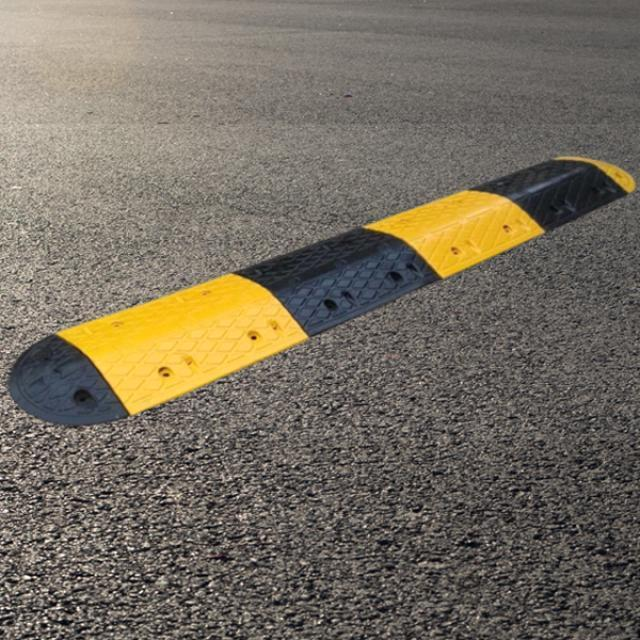Marked Bump: (36, 145, 596, 442)
